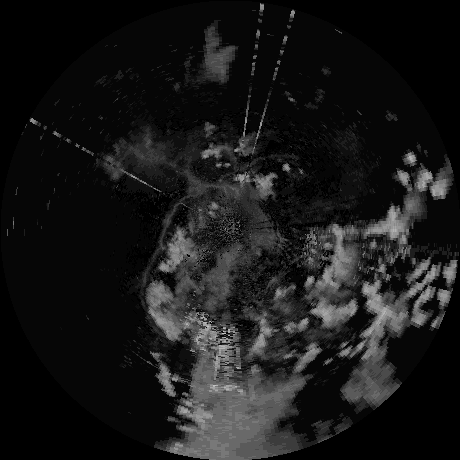frontgust: (159, 197, 183, 247), (215, 158, 267, 181), (139, 250, 157, 308)
